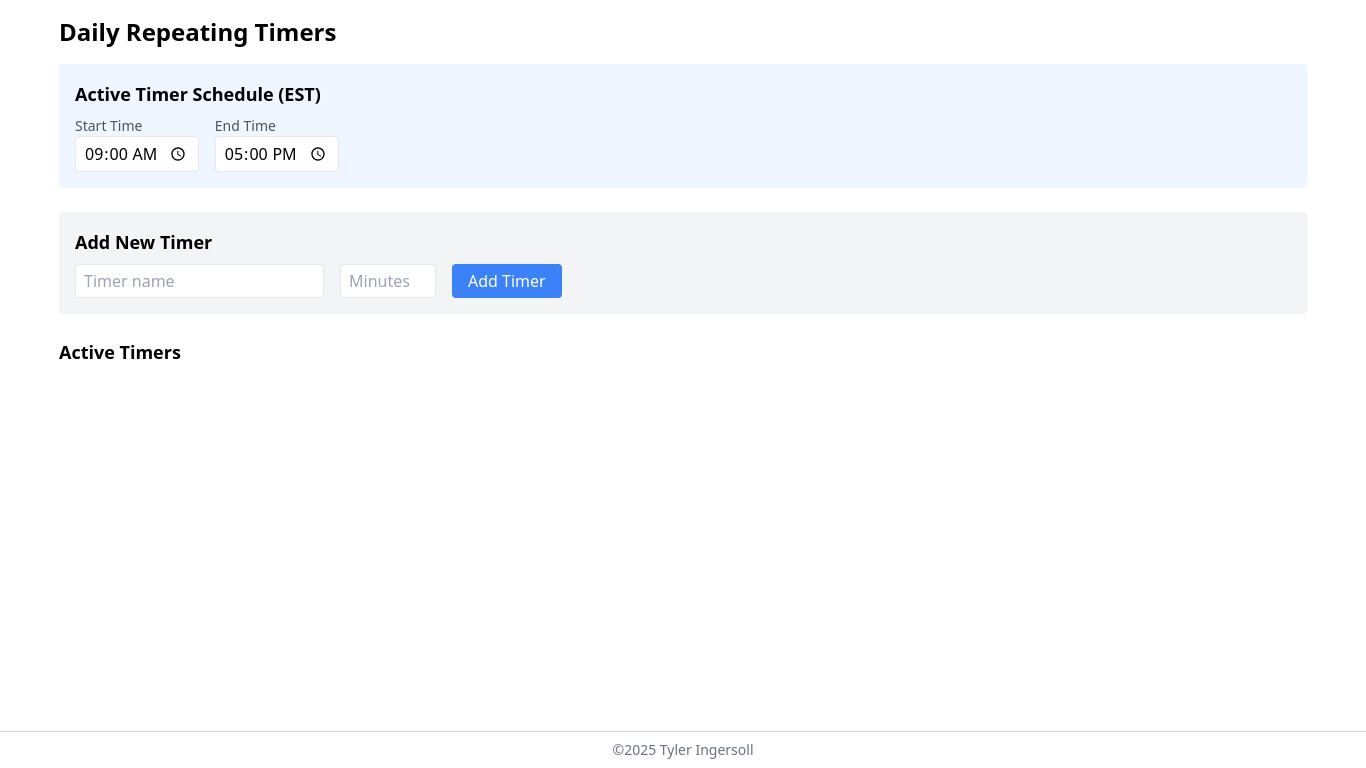
Test case: Timer Application › creates and manages a timer
// Create new timer
Type "Test Timer" into the field with placeholder "Timer name". click: (200, 281)
box: 75,264 -> 324,298
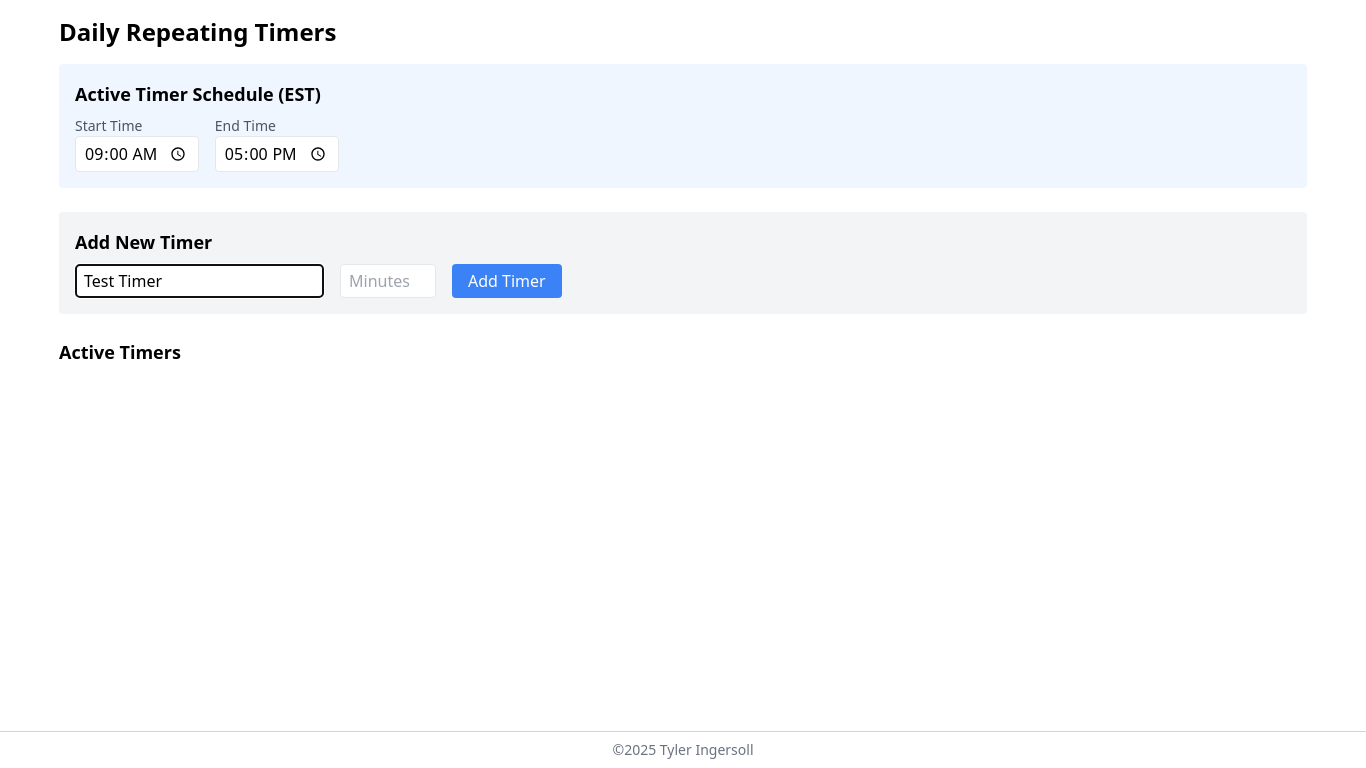
Type "1" into the number field with placeholder "Minutes (default 5)". click: (388, 281)
box: 340,264 -> 436,298
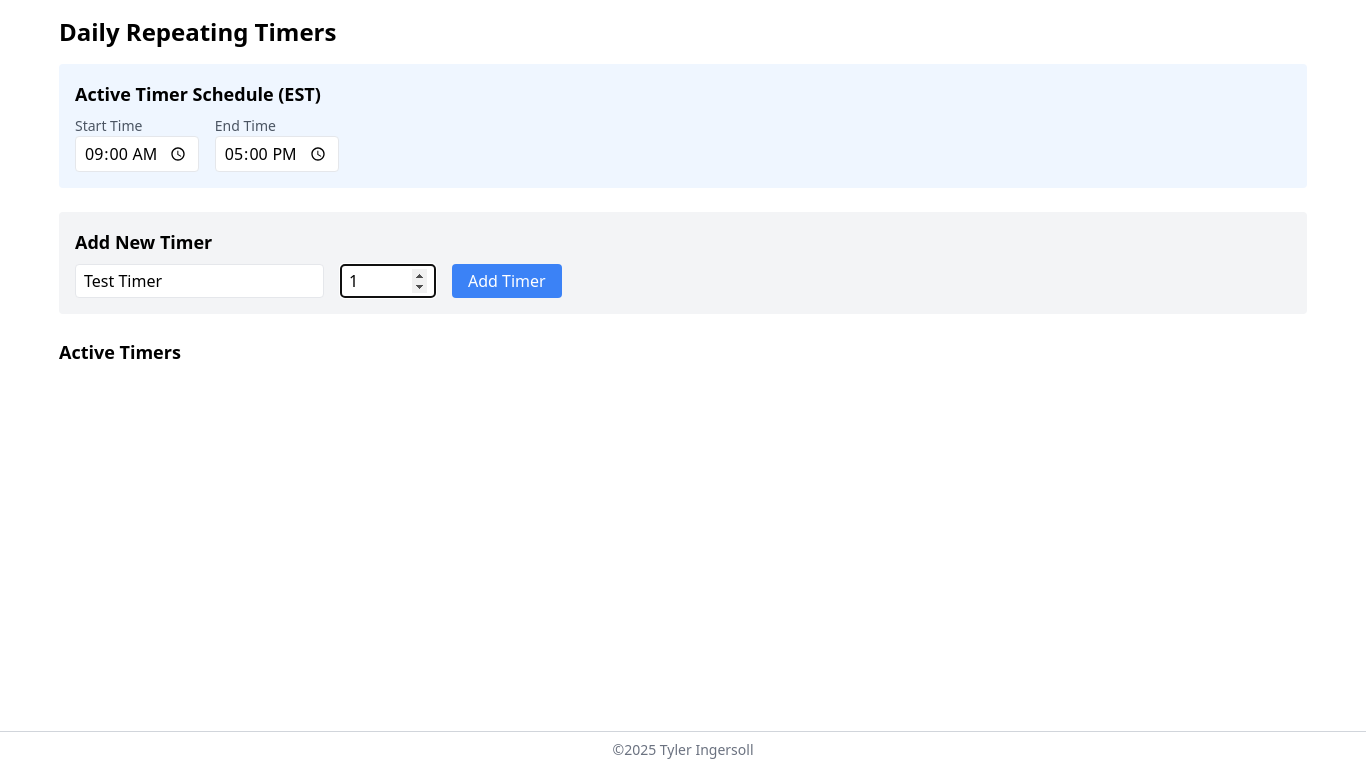
Click the button "Add Timer". click: (507, 281)
box: 452,264 -> 562,298
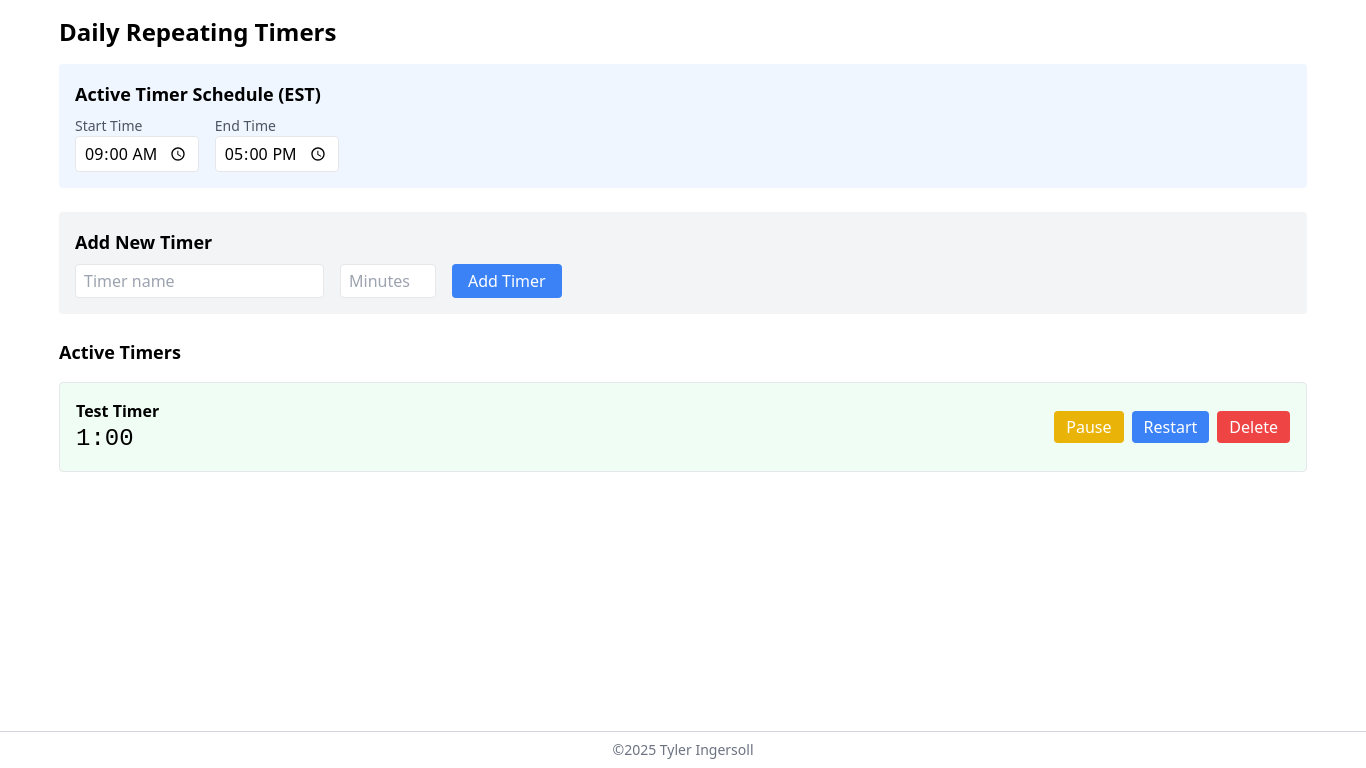
Result: the heading "Test Timer" is shown at 76,399 -> 159,423
Result: the text "1:00" is shown at 76,425 -> 134,452
// Test timer controls
Click the button "Pause". click: (1089, 427)
box: 1054,411 -> 1123,443
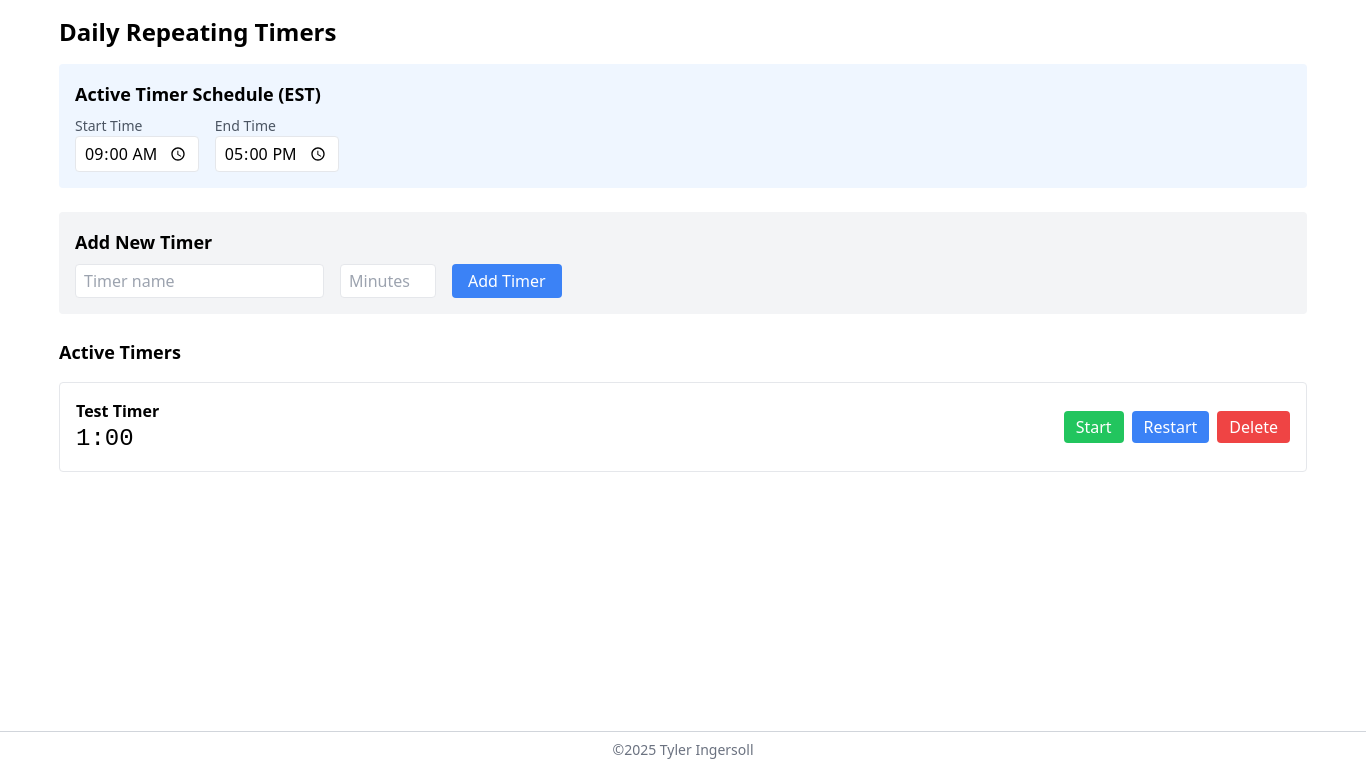
Result: the button "Start" is shown at 1064,411 -> 1124,443
Click the button "Restart". click: (1171, 427)
box: 1132,411 -> 1210,443
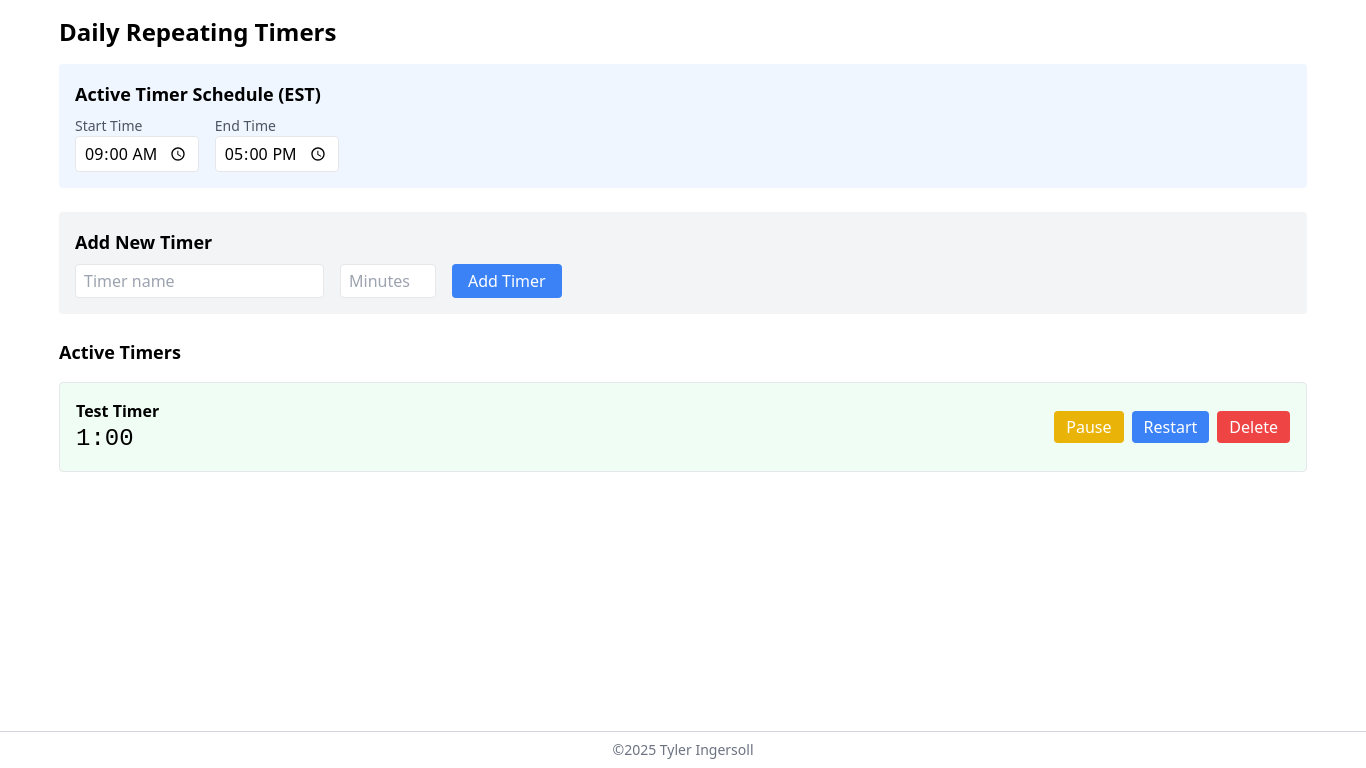
Result: the text "1:00" is shown at 76,425 -> 134,452
Click the button "Delete". click: (1254, 427)
box: 1217,411 -> 1290,443
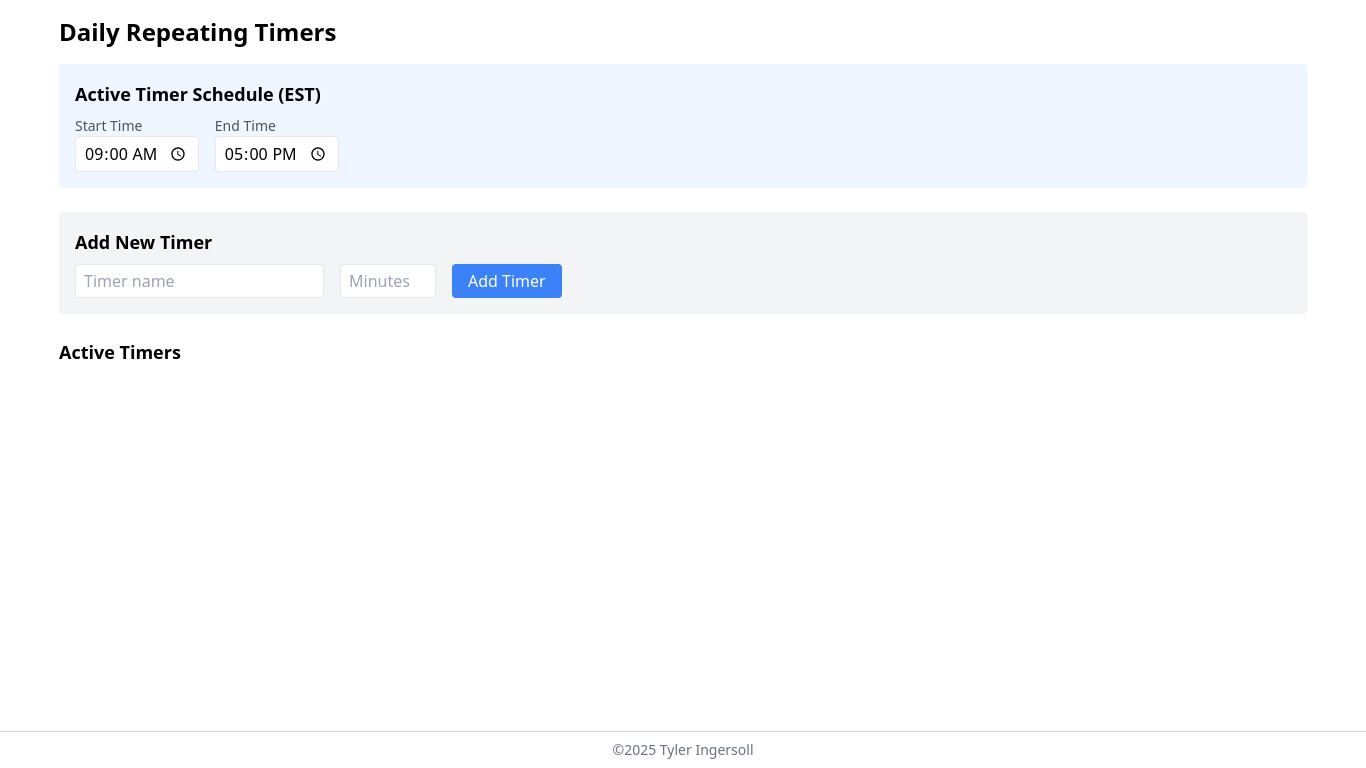
Result: the heading "Test Timer" is gone
